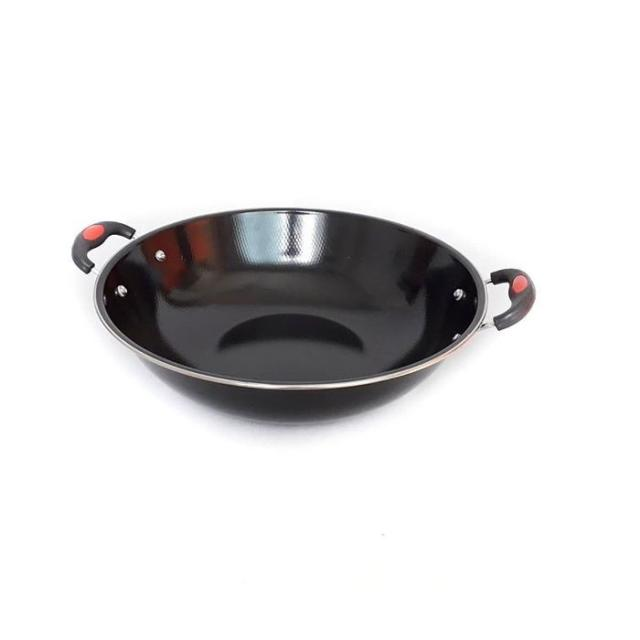Wajan: (66, 190, 556, 455)
